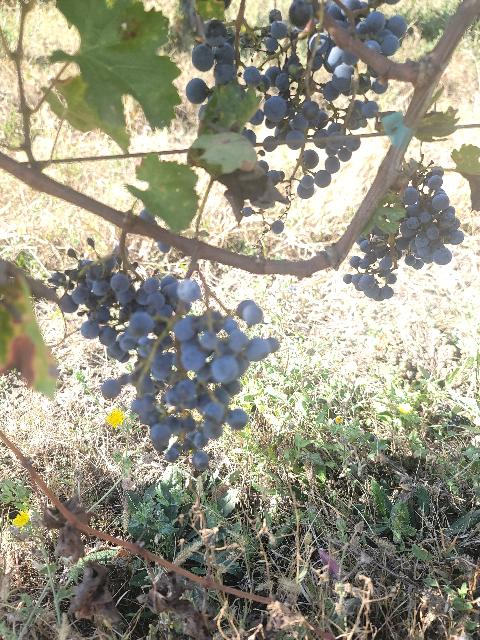grapes: (115, 276, 279, 470), (50, 248, 141, 362), (400, 166, 464, 269), (326, 0, 408, 56)
